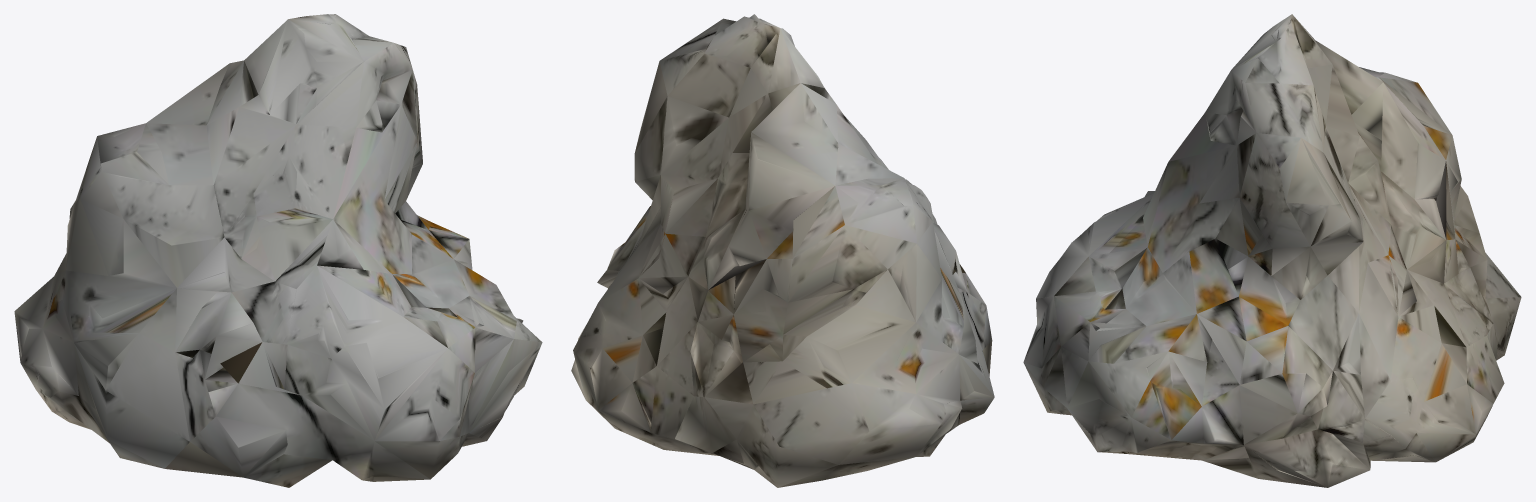
Rendered from rock-italy-outcrop.glb.
3 views of the same model, side by side, from view 1: azimuth 30°, elevation 25°; view 2: azimuth 150°, elevation 25°; view 3: azimuth 270°, elevation 25° (orthographic). The views are drawn at different scales.
Parts seen in each view (by area): view 1: tripo_node_2a4a1db3-d732-4aab-a699-904c66f830bc; view 2: tripo_node_2a4a1db3-d732-4aab-a699-904c66f830bc; view 3: tripo_node_2a4a1db3-d732-4aab-a699-904c66f830bc.
Boxes of the visible parts, x1=… form: tripo_node_2a4a1db3-d732-4aab-a699-904c66f830bc: x1=14, y1=14, x2=542, y2=487; tripo_node_2a4a1db3-d732-4aab-a699-904c66f830bc: x1=571, y1=14, x2=994, y2=487; tripo_node_2a4a1db3-d732-4aab-a699-904c66f830bc: x1=1023, y1=14, x2=1521, y2=487.
Bounding box in the file's own units: 1.65 × 1.5 × 1.67.
Materials: 1 (1 with a texture image).
